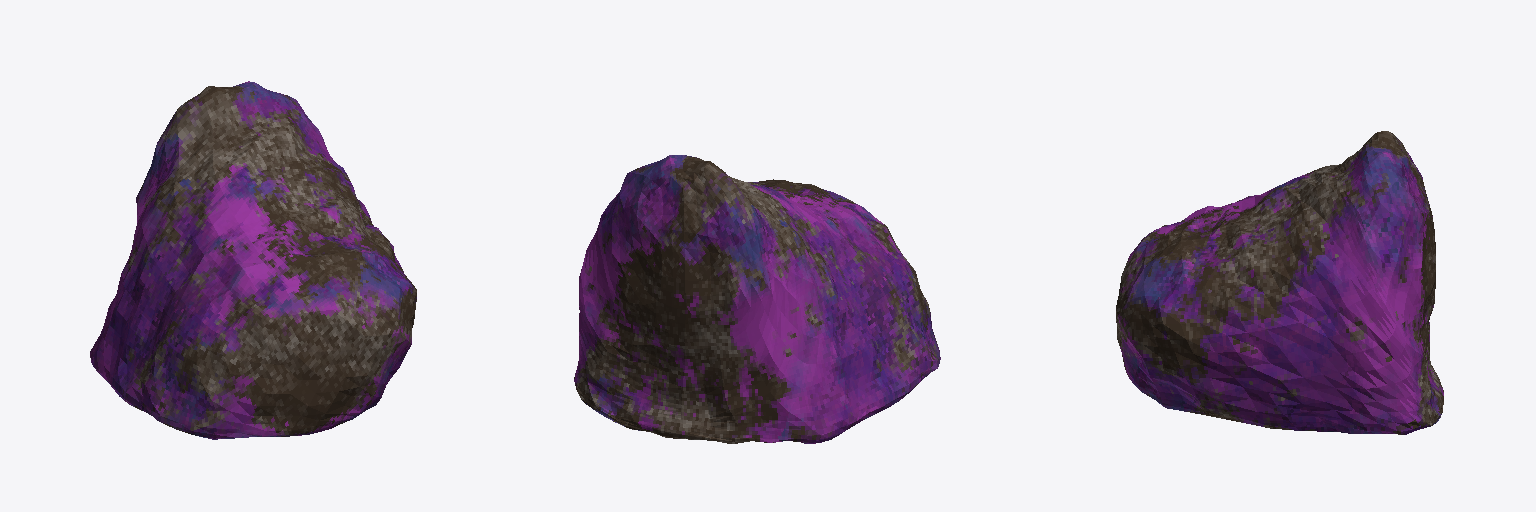
The picture shows the model from 3 angles: view 1: azimuth 30°, elevation 25°; view 2: azimuth 150°, elevation 25°; view 3: azimuth 270°, elevation 25°; orthographic projection.
Parts seen in each view (by area): view 1: Cube.006_Cube.007; view 2: Cube.006_Cube.007; view 3: Cube.006_Cube.007.
Boxes of the visible parts, x1=… form: Cube.006_Cube.007: x1=90, y1=81, x2=416, y2=439; Cube.006_Cube.007: x1=574, y1=155, x2=940, y2=443; Cube.006_Cube.007: x1=1116, y1=131, x2=1443, y2=434.
Size of the model in its own units: 8.79 by 7.98 by 9.2.
1 materials, 1 textured.